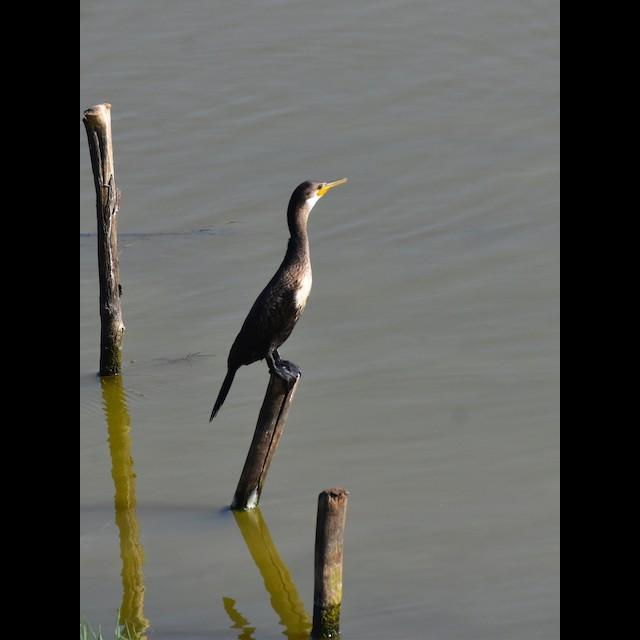cormorant: (211, 168, 355, 424)
